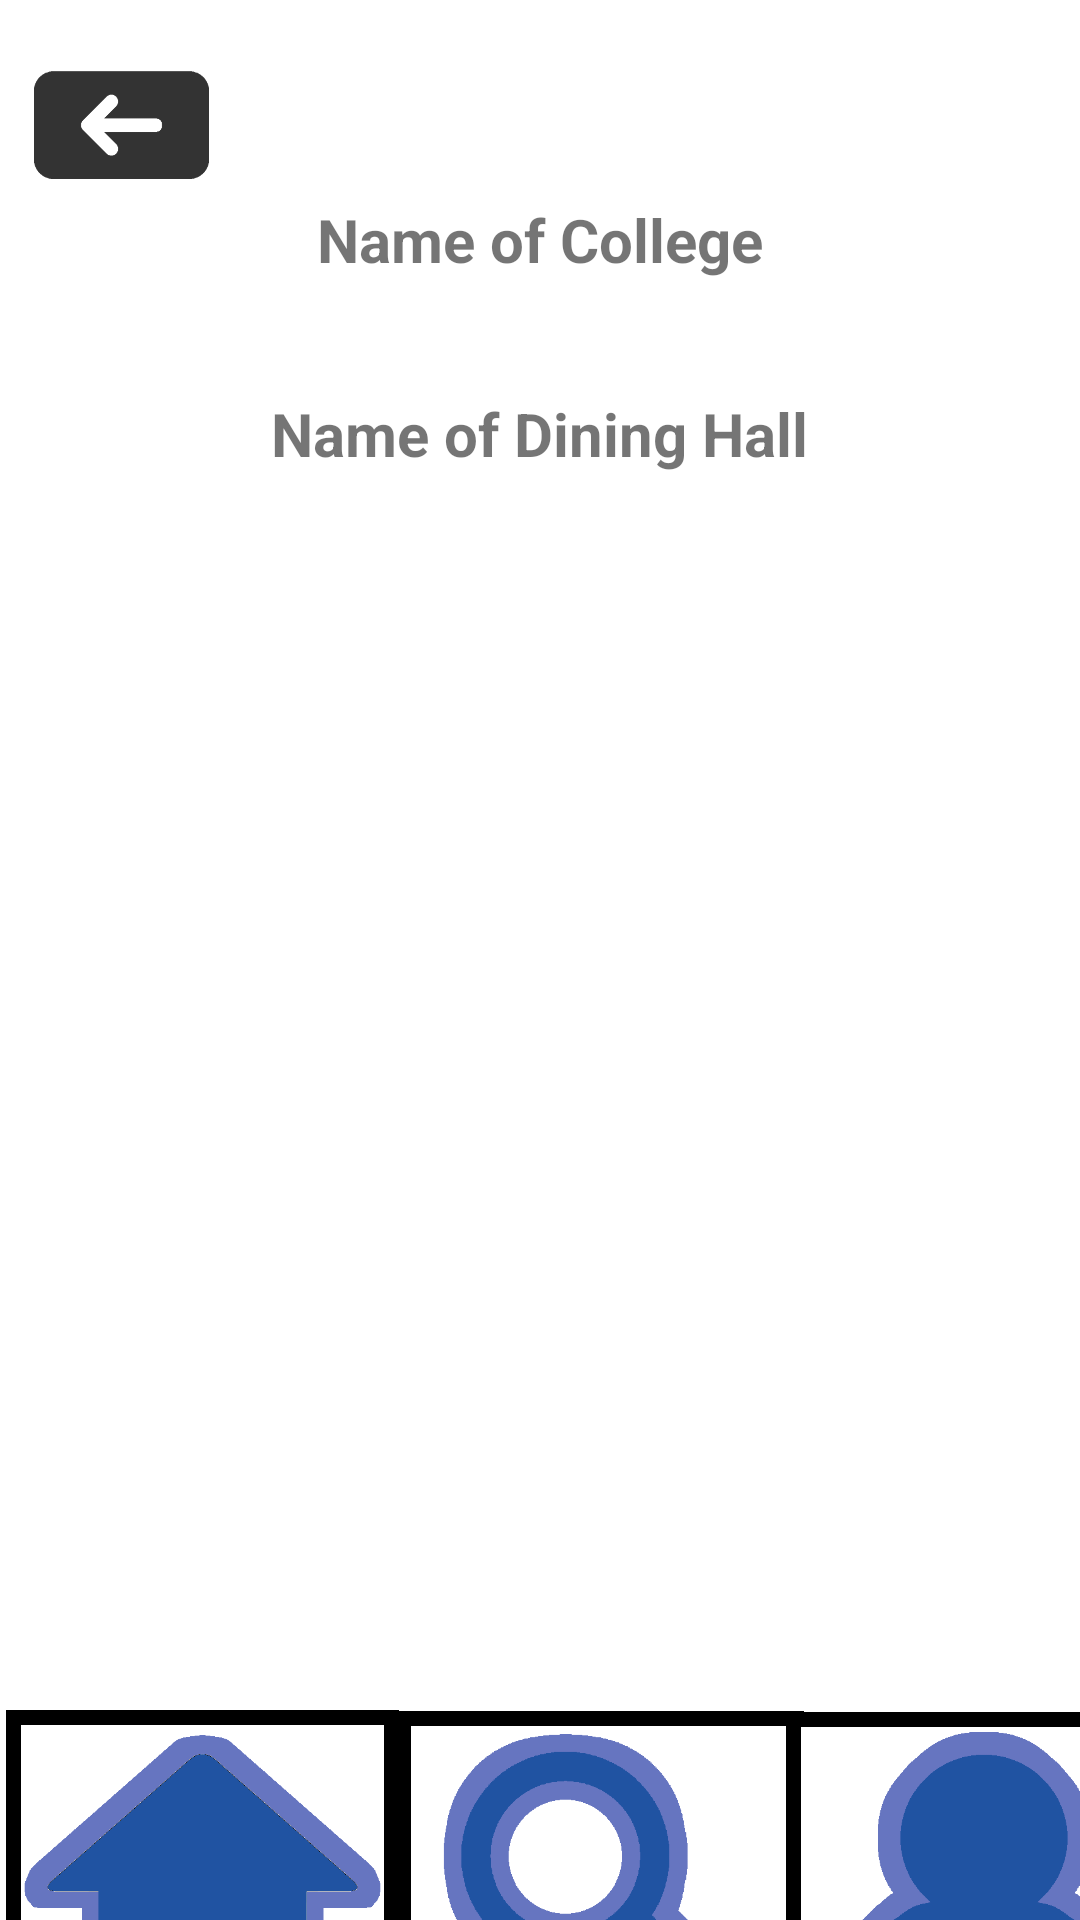

Icon click points for this 1080px x 1920px phone screenshot, format (x,y):
back: (121,125)
